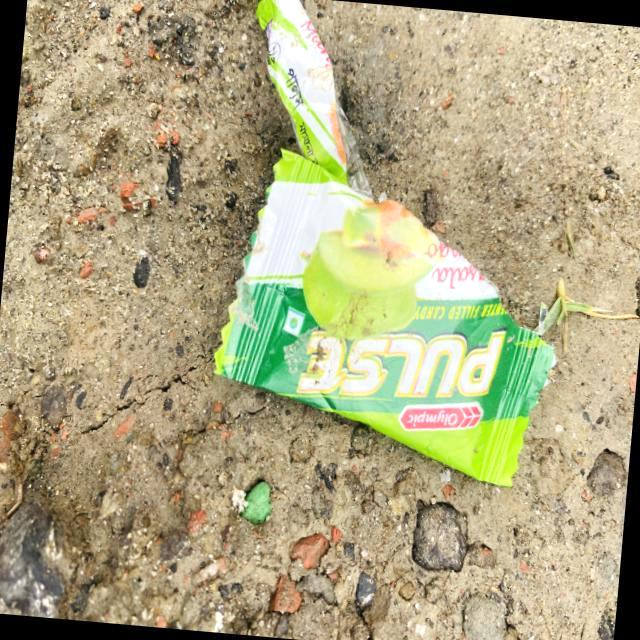packet: (242, 245, 532, 452)
